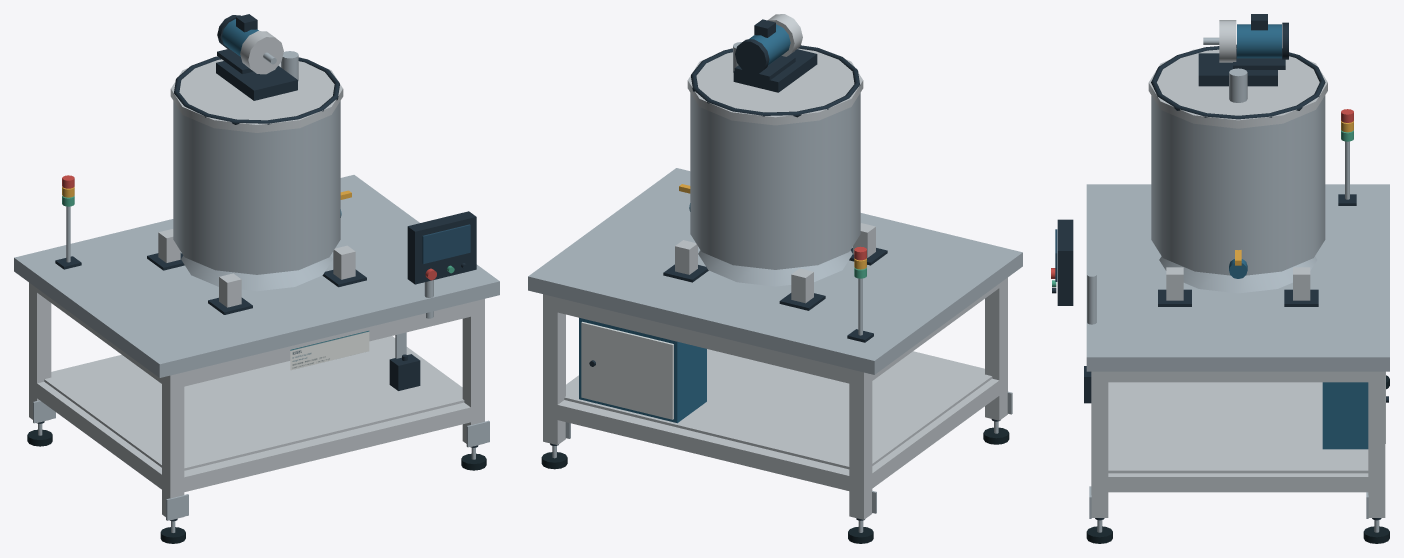
File: dough-mixer-cell.glb
The picture shows the model from 3 angles, left to right: view 1: azimuth 30°, elevation 25°; view 2: azimuth 150°, elevation 25°; view 3: azimuth 270°, elevation 25°; orthographic projection. The views are drawn at different scales.
Parts seen in each view (by area): view 1: ClosedMachineBed_28, LowerShelf_29, VesselBody_56, VesselLid_58, SlottedExtrusion_22, SlottedExtrusion_23, SlottedExtrusion_8, SlottedExtrusion_24, ConsoleBack_34, SlottedExtrusion_18, SlottedExtrusion_3, LowerDishedEnd_57 (+11 smaller); view 2: ClosedMachineBed_28, VesselBody_56, LowerShelf_29, VesselLid_58, BackDoor_31, SlottedExtrusion_20, SlottedExtrusion_21, SlottedExtrusion_3, Cabinet_30, SlottedExtrusion_13, SlottedExtrusion_24, SlottedExtrusion_8 (+10 smaller); view 3: ClosedMachineBed_28, VesselBody_56, LowerShelf_29, VesselLid_58, SlottedExtrusion_26, SlottedExtrusion_27, Cabinet_30, SlottedExtrusion_18, SlottedExtrusion_13, LowerDishedEnd_57, LidGasket_59, AgitatorBridge_75 (+10 smaller).
Part boxes in pixels (bbox=[...]): ClosedMachineBed_28: bbox=[14, 175, 499, 377]; LowerShelf_29: bbox=[44, 337, 464, 470]; VesselBody_56: bbox=[173, 101, 340, 274]; VesselLid_58: bbox=[170, 57, 343, 132]; SlottedExtrusion_22: bbox=[184, 402, 477, 491]; SlottedExtrusion_23: bbox=[177, 300, 477, 387]; SlottedExtrusion_8: bbox=[162, 372, 184, 520]; SlottedExtrusion_24: bbox=[33, 382, 161, 489]; ConsoleBack_34: bbox=[407, 211, 476, 284]; SlottedExtrusion_18: bbox=[462, 299, 484, 446]; SlottedExtrusion_3: bbox=[29, 282, 51, 422]; LowerDishedEnd_57: bbox=[181, 255, 332, 291]; ClosedMachineBed_28: bbox=[528, 168, 1022, 374]; VesselBody_56: bbox=[690, 93, 860, 269]; LowerShelf_29: bbox=[564, 349, 992, 469]; VesselLid_58: bbox=[687, 48, 863, 125]; BackDoor_31: bbox=[581, 321, 673, 419]; SlottedExtrusion_20: bbox=[557, 400, 849, 490]; SlottedExtrusion_21: bbox=[550, 296, 855, 383]; SlottedExtrusion_3: bbox=[849, 369, 872, 519]; Cabinet_30: bbox=[579, 317, 706, 423]; SlottedExtrusion_13: bbox=[543, 294, 565, 444]; SlottedExtrusion_24: bbox=[868, 378, 999, 491]; SlottedExtrusion_8: bbox=[985, 277, 1007, 420]; ClosedMachineBed_28: bbox=[1086, 184, 1389, 371]; VesselBody_56: bbox=[1151, 95, 1325, 275]; LowerShelf_29: bbox=[1108, 382, 1368, 473]; VesselLid_58: bbox=[1148, 49, 1327, 128]; SlottedExtrusion_26: bbox=[1100, 473, 1376, 492]; SlottedExtrusion_27: bbox=[1099, 371, 1376, 382]; Cabinet_30: bbox=[1322, 382, 1368, 449]; SlottedExtrusion_18: bbox=[1091, 371, 1108, 517]; SlottedExtrusion_13: bbox=[1368, 371, 1385, 517]; LowerDishedEnd_57: bbox=[1159, 256, 1316, 293]; LidGasket_59: bbox=[1151, 44, 1325, 119]; AgitatorBridge_75: bbox=[1198, 53, 1277, 86].
Bounding box in the file's own units: 1.55 × 1.86 × 1.29.
Materials: 11 (1 with a texture image).
